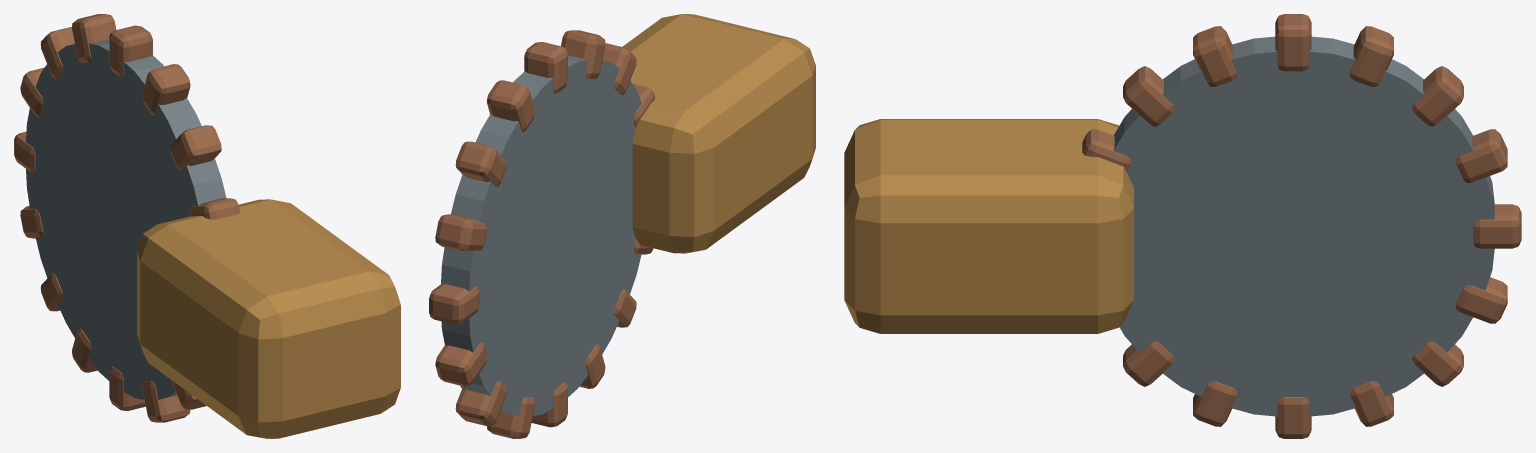
File: held_saw.glb
3 views of the same model, side by side, from view 1: azimuth 30°, elevation 25°; view 2: azimuth 150°, elevation 25°; view 3: azimuth 270°, elevation 25° (orthographic). The views are drawn at different scales.
Visible parts, largest first — view 1: Cube, Cylinder, Cube.016, Cube.015, Cube.001, Cube.002, Cube.010, Cube.003, Cube.009, Cube.014, Cube.004, Cube.008 (+4 smaller); view 2: Cylinder, Cube, Cube.002, Cube.005, Cube.006, Cube.003, Cube.004, Cube.001, Cube.007, Cube.016, Cube.008, Cube.015 (+4 smaller); view 3: Cylinder, Cube, Cube.002, Cube.016, Cube.001, Cube.015, Cube.003, Cube.004, Cube.005, Cube.006, Cube.007, Cube.011 (+4 smaller).
Part boxes in pixels (x1,y1,x2,y2): Cube: (137,199,400,438); Cylinder: (26,39,226,399); Cube.016: (142,64,190,115); Cube.015: (170,125,221,170); Cube.001: (109,25,152,77); Cube.002: (72,14,116,62); Cube.010: (142,380,190,422); Cube.003: (40,27,74,78); Cube.009: (109,366,145,410); Cube.014: (190,198,239,219); Cube.004: (20,67,43,117); Cube.008: (72,328,97,372); Cylinder: (441,55,641,415); Cube: (622,14,815,253); Cube.002: (487,80,535,131); Cube.005: (429,284,479,324); Cube.006: (435,342,487,386); Cube.003: (455,141,506,186); Cube.004: (435,214,487,251); Cube.001: (524,42,567,93); Cube.007: (455,381,506,425); Cube.016: (561,30,605,78); Cube.008: (487,397,535,438); Cube.015: (602,43,636,94); Cylinder: (1113,36,1494,416); Cube: (844,119,1133,333); Cube.002: (1350,26,1393,86); Cube.016: (1193,26,1236,86); Cube.001: (1275,14,1311,71); Cube.015: (1123,66,1174,126); Cube.003: (1412,66,1463,126); Cube.004: (1455,129,1507,182); Cube.005: (1473,204,1521,248); Cube.006: (1455,277,1507,323); Cube.007: (1412,341,1463,386); Cube.011: (1123,341,1174,386).
Bounding box in the file's own units: 0.14 × 0.315 × 0.4675.
